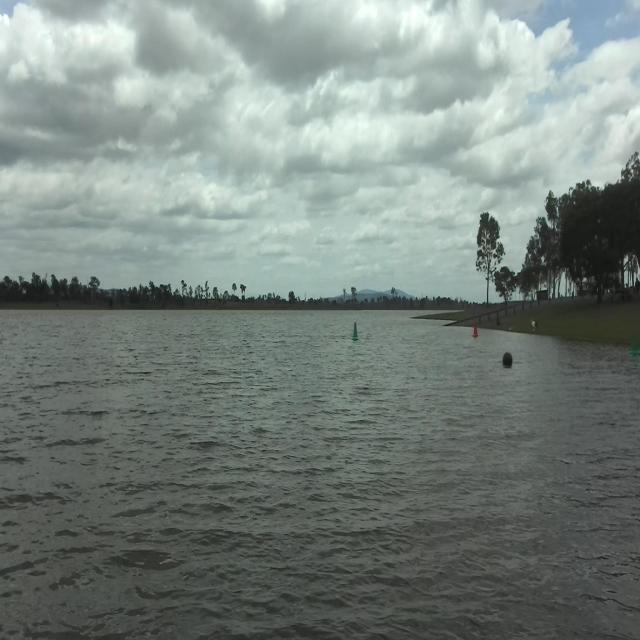Black_Buoy: (489, 348, 531, 374), (340, 323, 368, 343)
Red_Buoy: (466, 322, 485, 342)
